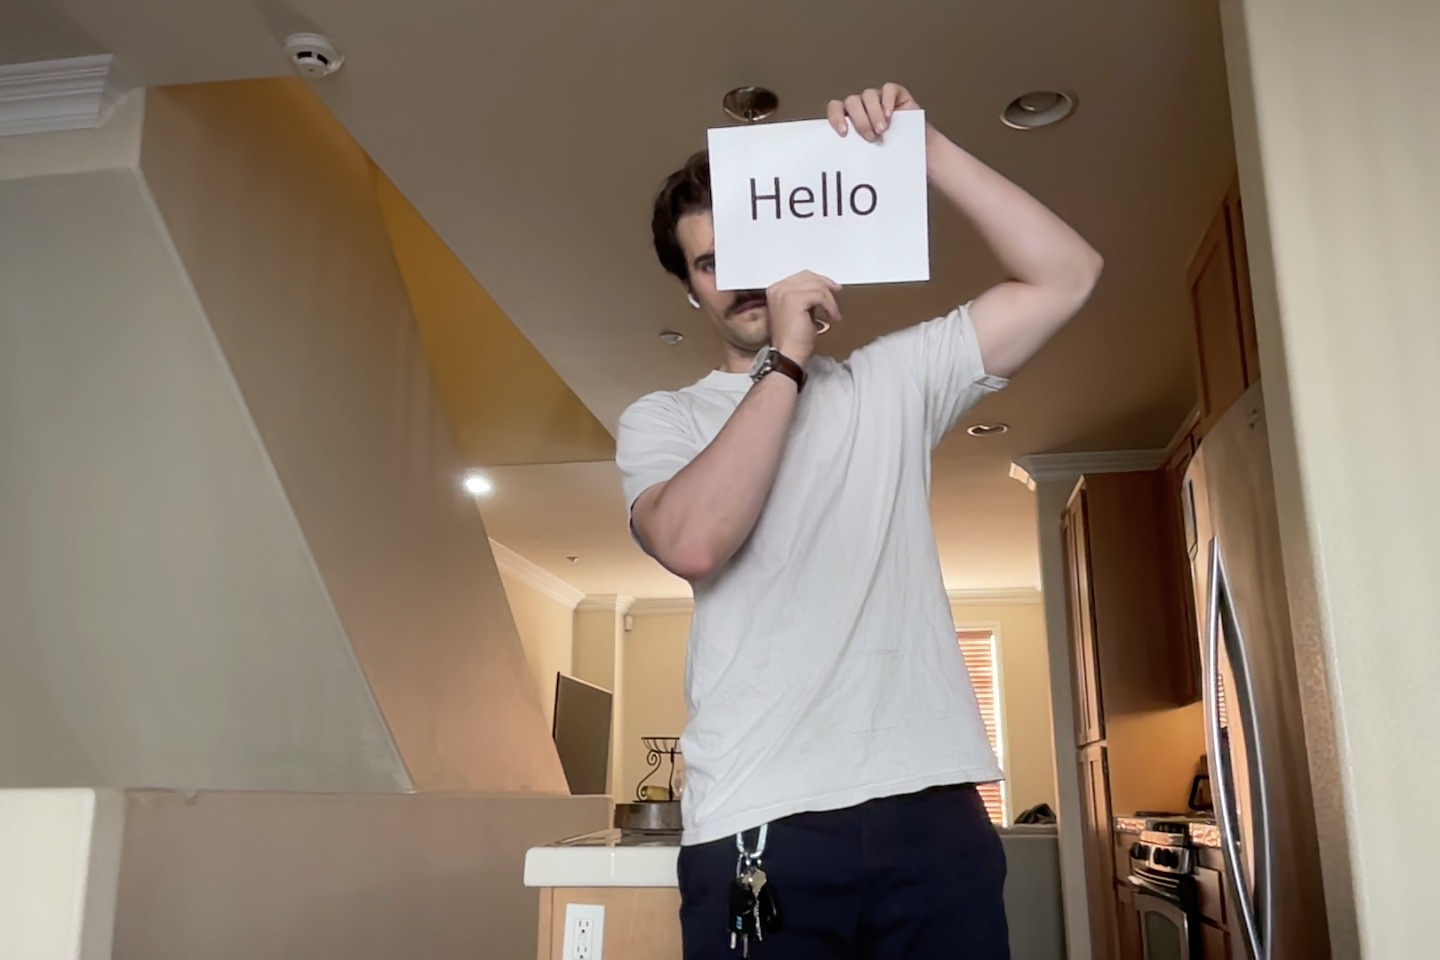word: (746, 169, 880, 224)
